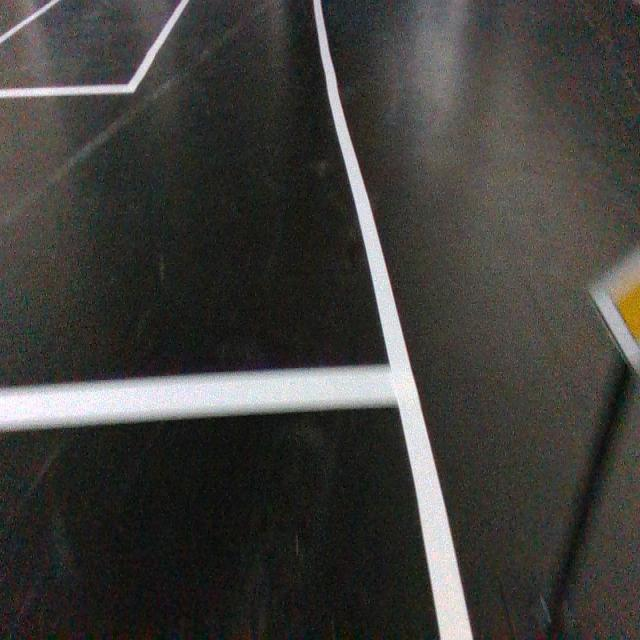priority-sign: (587, 243, 640, 384)
